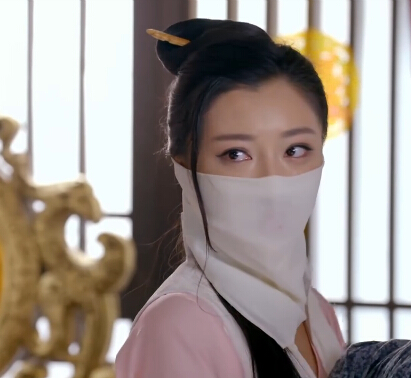face_mask: (193, 78, 325, 251)
